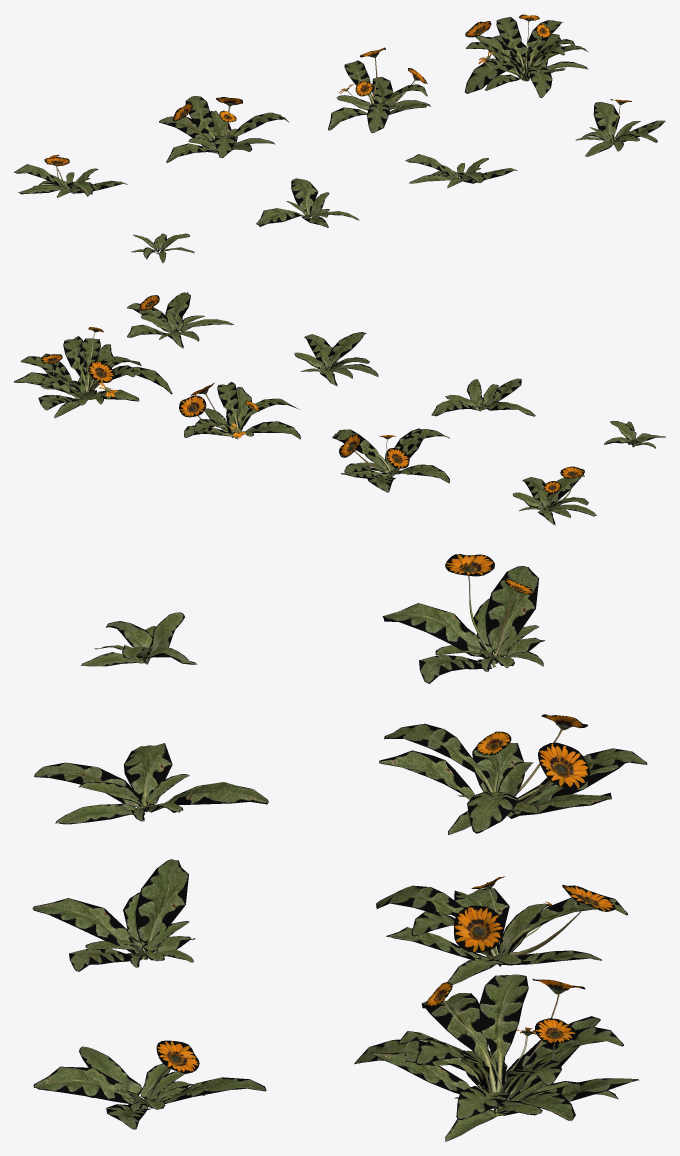
File: flower_gazania.glb
3 views of the same model, one above another, from view 1: azimuth 30°, elevation 25°; view 2: azimuth 150°, elevation 25°; view 3: azimuth 270°, elevation 25° (orthographic). The views are drawn at different scales.
Visible parts, largest first — view 1: flower_gazania_h_LOD0, flower_gazania_f_LOD0, flower_gazania_g_LOD0, flower_gazania_d_LOD0, flower_gazania_b_LOD0, flower_gazania_e_LOD0, flower_gazania_c_LOD0, flower_gazania_a_LOD0; view 2: flower_gazania_h_LOD0, flower_gazania_g_LOD0, flower_gazania_f_LOD0, flower_gazania_d_LOD0, flower_gazania_e_LOD0, flower_gazania_c_LOD0, flower_gazania_b_LOD0, flower_gazania_a_LOD0; view 3: flower_gazania_h_LOD0, flower_gazania_f_LOD0, flower_gazania_g_LOD0, flower_gazania_e_LOD0, flower_gazania_c_LOD0, flower_gazania_d_LOD0, flower_gazania_b_LOD0, flower_gazania_a_LOD0.
Boxes of the visible parts, x1,y1,x2,y2 form: flower_gazania_h_LOD0: (464,14,588,97); flower_gazania_f_LOD0: (159,96,289,162); flower_gazania_g_LOD0: (328,47,430,133); flower_gazania_d_LOD0: (575,99,665,156); flower_gazania_b_LOD0: (256,178,359,227); flower_gazania_e_LOD0: (14,154,127,197); flower_gazania_c_LOD0: (405,154,517,188); flower_gazania_a_LOD0: (131,233,194,262); flower_gazania_h_LOD0: (14,327,172,418); flower_gazania_g_LOD0: (179,382,300,439); flower_gazania_f_LOD0: (332,428,449,492); flower_gazania_d_LOD0: (127,292,233,348); flower_gazania_e_LOD0: (512,466,596,525); flower_gazania_c_LOD0: (294,332,378,386); flower_gazania_b_LOD0: (431,378,535,416); flower_gazania_a_LOD0: (604,421,665,448); flower_gazania_h_LOD0: (354,974,639,1141); flower_gazania_f_LOD0: (379,714,647,834); flower_gazania_g_LOD0: (376,876,627,984); flower_gazania_e_LOD0: (382,554,544,683); flower_gazania_c_LOD0: (32,859,194,971); flower_gazania_d_LOD0: (33,1040,266,1129); flower_gazania_b_LOD0: (34,743,268,824); flower_gazania_a_LOD0: (81,612,196,666).
Size of the model in its own units: 1.48 by 0.1655 by 0.7028.
Materials: 1 (1 with a texture image).
